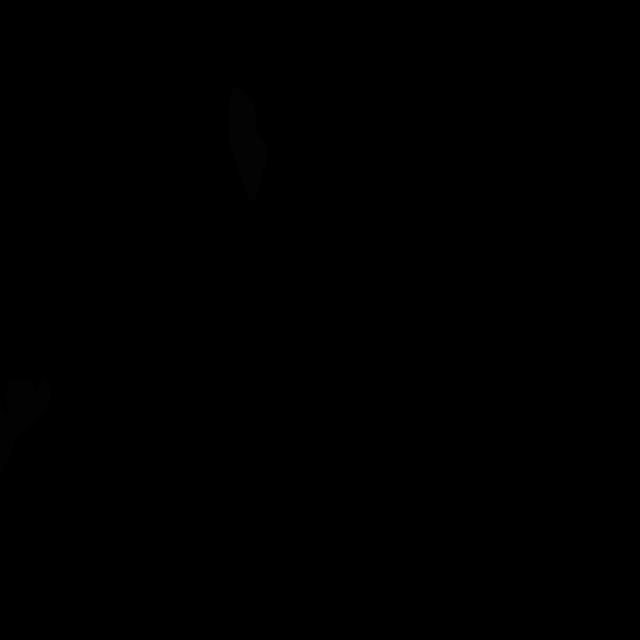cardboard: (0, 375, 51, 473)
metal: (228, 87, 268, 201)
